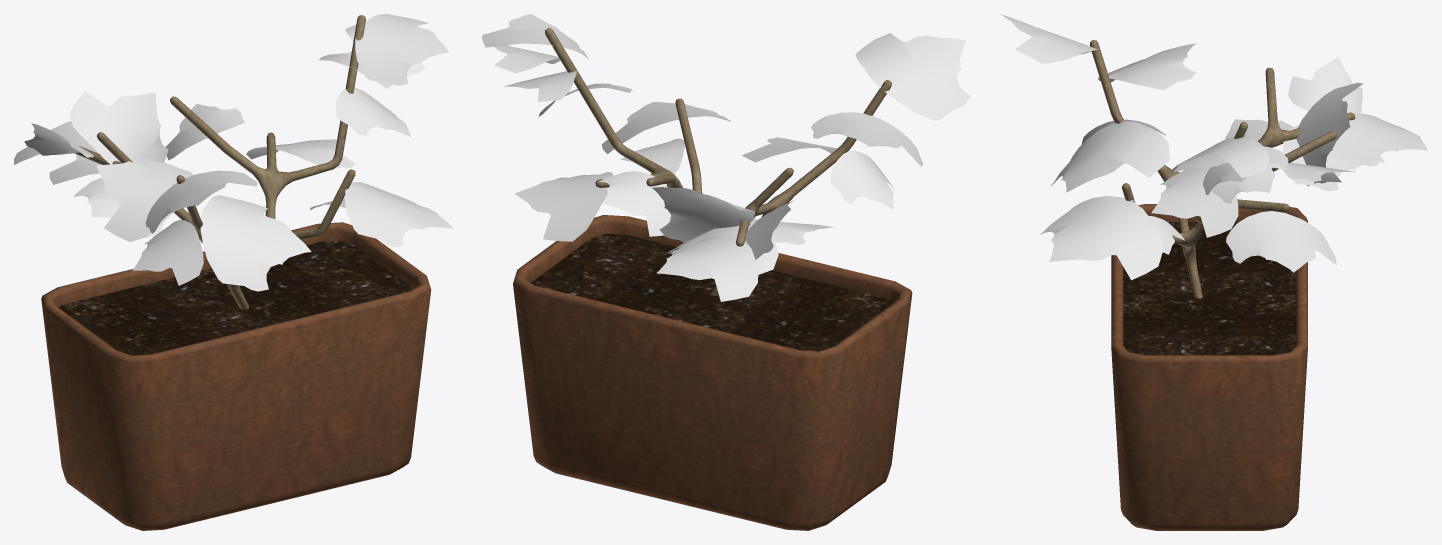
The model's file is 920007_small plant.fbx.
3 renders of one model, left to right at view 1: azimuth 30°, elevation 25°; view 2: azimuth 150°, elevation 25°; view 3: azimuth 270°, elevation 25°, orthographic. The views are drawn at different scales.
Parts seen in each view (by area): view 1: Cylinder.013; view 2: Cylinder.013; view 3: Cylinder.013.
Part boxes in pixels (<box>): Cylinder.013: <box>14,14,453,530</box>; Cylinder.013: <box>482,14,970,530</box>; Cylinder.013: <box>1000,14,1427,530</box>.
Size of the model in its own units: 25.83 by 26.91 by 25.34.
